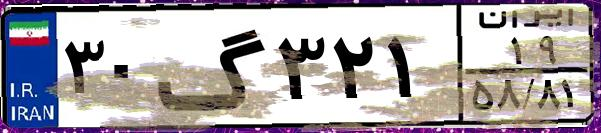0: (110, 28, 156, 98)
1: (385, 28, 445, 110), (560, 70, 590, 125), (508, 27, 537, 80)
2: (330, 28, 385, 110)
3: (270, 28, 330, 110), (57, 26, 110, 100)
5: (470, 70, 495, 125)
8: (495, 70, 520, 125), (535, 70, 560, 125)
9: (537, 27, 568, 80)
گ: (156, 12, 270, 120)
